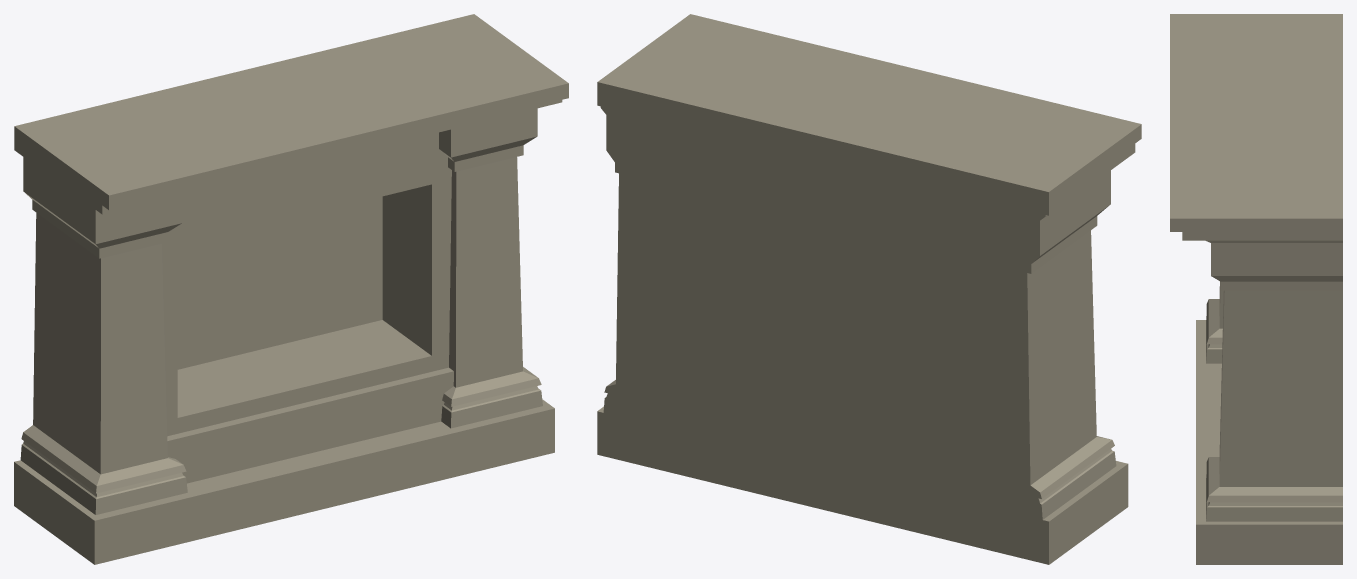
The model's file is Fireplace.glb.
3 views of the same model, side by side, from view 1: azimuth 30°, elevation 25°; view 2: azimuth 150°, elevation 25°; view 3: azimuth 270°, elevation 25° (orthographic). The views are drawn at different scales.
Visible parts, largest first — view 1: Fireplace; view 2: Fireplace; view 3: Fireplace.
Part boxes in pixels (<box>): Fireplace: <box>14,14,568,564</box>; Fireplace: <box>597,14,1141,564</box>; Fireplace: <box>1170,14,1342,564</box>.
Size of the model in its own units: 1.59 by 1.25 by 0.5662.
1 material, 1 textured.
